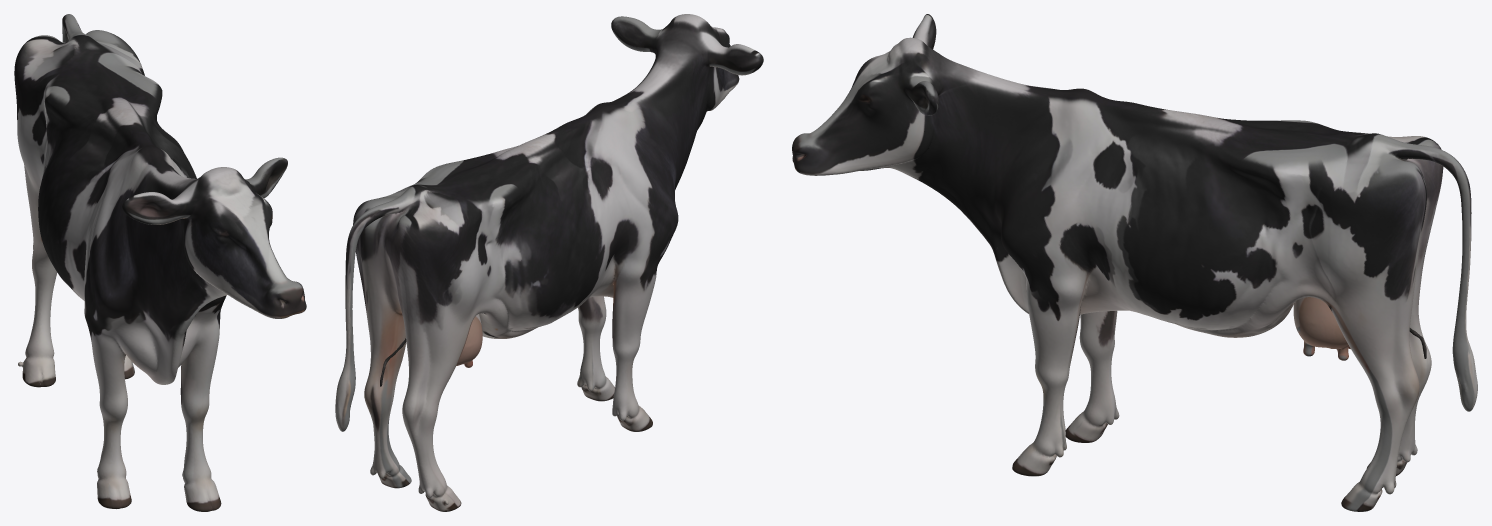
File: holstein-cow.glb
3 renders of one model, left to right at view 1: azimuth 30°, elevation 25°; view 2: azimuth 150°, elevation 25°; view 3: azimuth 270°, elevation 25°, orthographic. The views are drawn at different scales.
Parts seen in each view (by area): view 1: tripo_node_eeac80c2-4604-490b-88a8-c3651c18382d; view 2: tripo_node_eeac80c2-4604-490b-88a8-c3651c18382d; view 3: tripo_node_eeac80c2-4604-490b-88a8-c3651c18382d.
Part boxes in pixels (bbox=[...]): tripo_node_eeac80c2-4604-490b-88a8-c3651c18382d: bbox=[14, 14, 306, 511]; tripo_node_eeac80c2-4604-490b-88a8-c3651c18382d: bbox=[335, 14, 763, 511]; tripo_node_eeac80c2-4604-490b-88a8-c3651c18382d: bbox=[792, 14, 1477, 511].
Size of the model in its own units: 0.4035 by 0.6553 by 1.
1 material, 1 textured.
